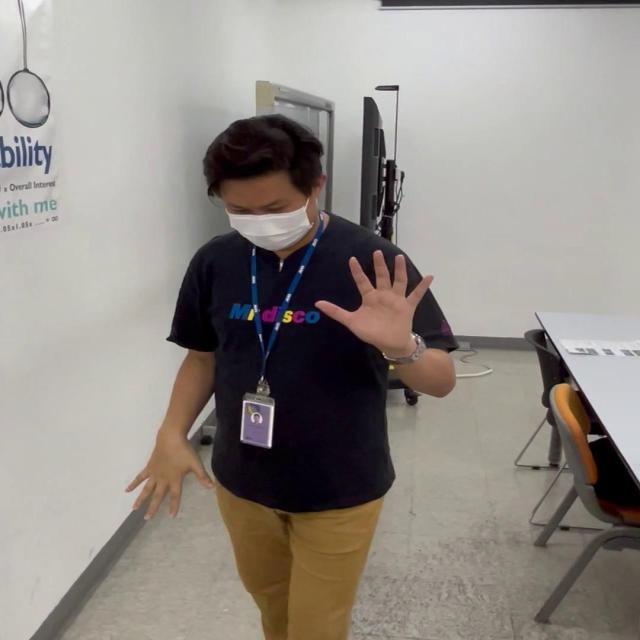bare_hand: (311, 248, 431, 344), (124, 429, 210, 522)
